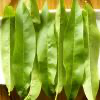Peach leaf: (13, 1, 35, 99), (63, 0, 84, 99), (36, 1, 57, 99), (81, 1, 99, 99), (2, 5, 15, 94)
